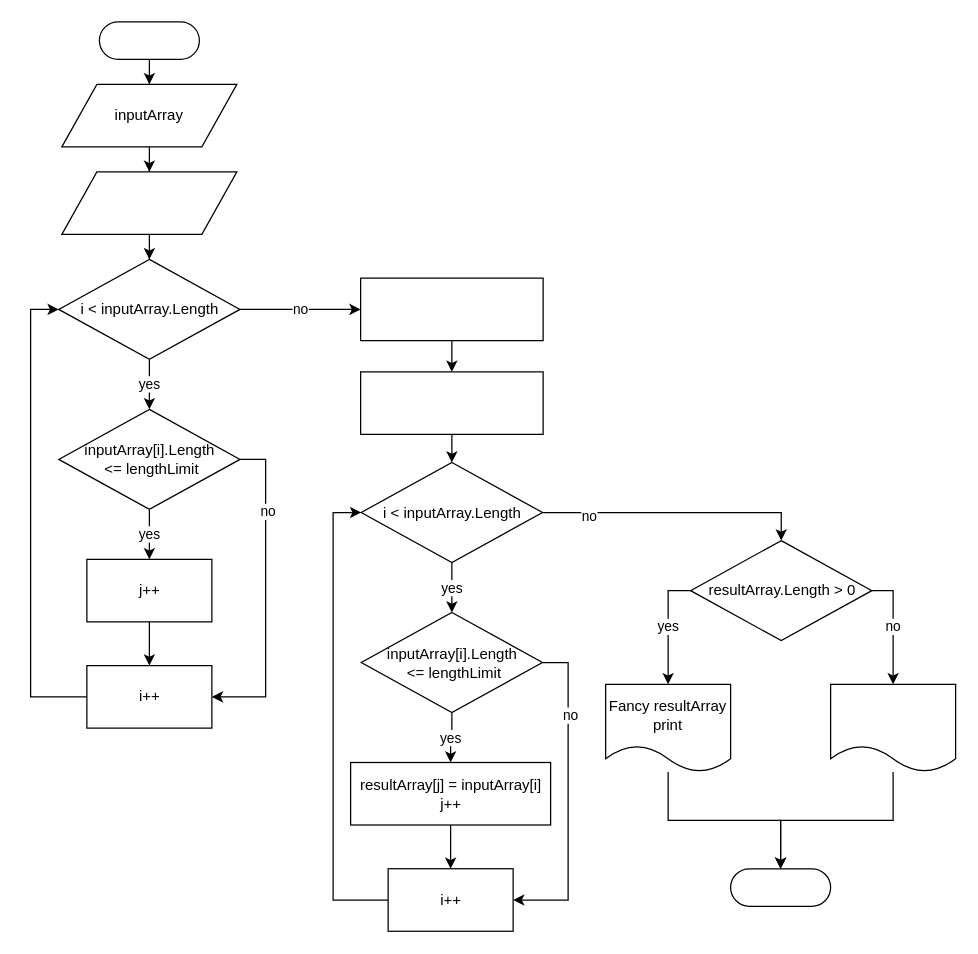
This 978x954 diagram has some shape labels left out. The shapes that lost their labels are listed below. From the top down, each one's centre as x and y in pixels, then its label:
point (148, 40): Start
point (149, 202): lengthLimit = 3 i = 0 j = 0
point (451, 309): resultArray = new string[j]
point (451, 402): i = 0 j = 0
point (892, 727): print "[]"
point (780, 887): end
